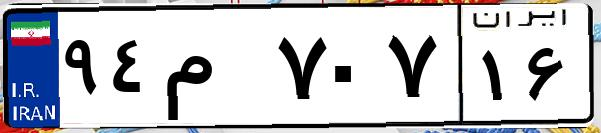0: (330, 28, 385, 110)
1: (475, 38, 525, 113)
4: (110, 28, 158, 98)
6: (525, 38, 570, 115)
7: (270, 28, 330, 110), (385, 28, 445, 110)
9: (57, 26, 110, 100)
م: (158, 20, 270, 120)
